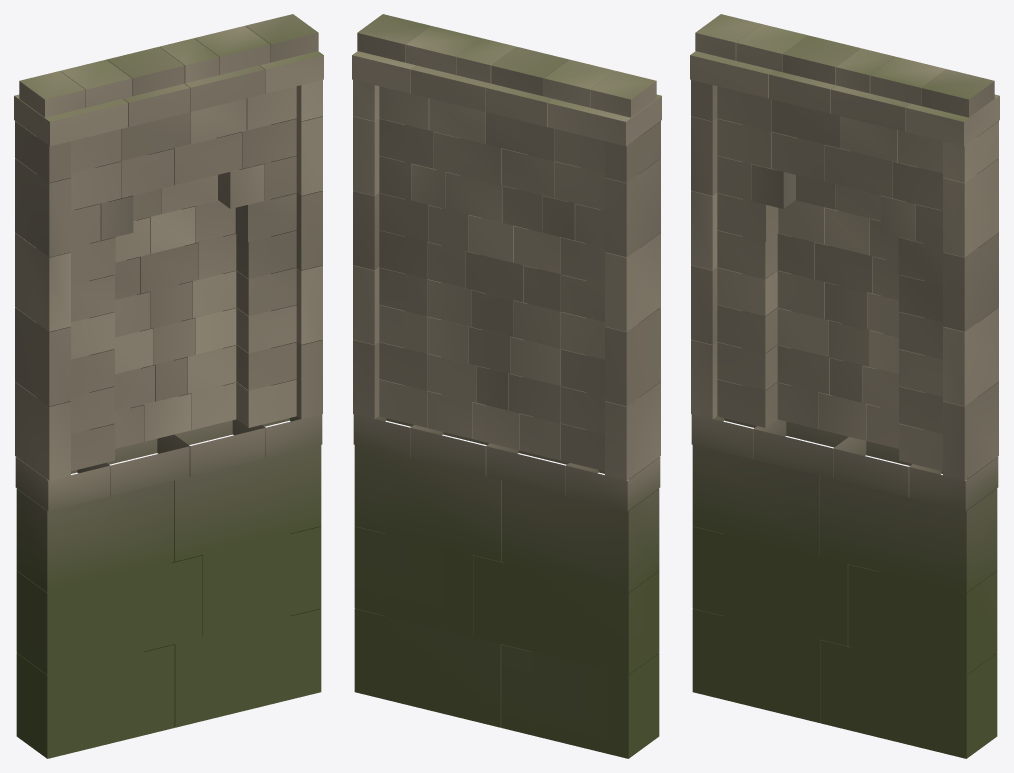
File: sanctuary_wall_mid.glb
3 views of the same model, side by side, from view 1: azimuth 30°, elevation 25°; view 2: azimuth 150°, elevation 25°; view 3: azimuth 330°, elevation 25° (orthographic).
Visible parts, largest first — view 1: sanctuary_wall_mid; view 2: sanctuary_wall_mid; view 3: sanctuary_wall_mid.
Boxes of the visible parts, <box> form: sanctuary_wall_mid: <box>14,14,323,758</box>; sanctuary_wall_mid: <box>352,14,661,758</box>; sanctuary_wall_mid: <box>690,14,999,758</box>.
Size of the model in its own units: 18.47 by 42.37 by 4.2.
